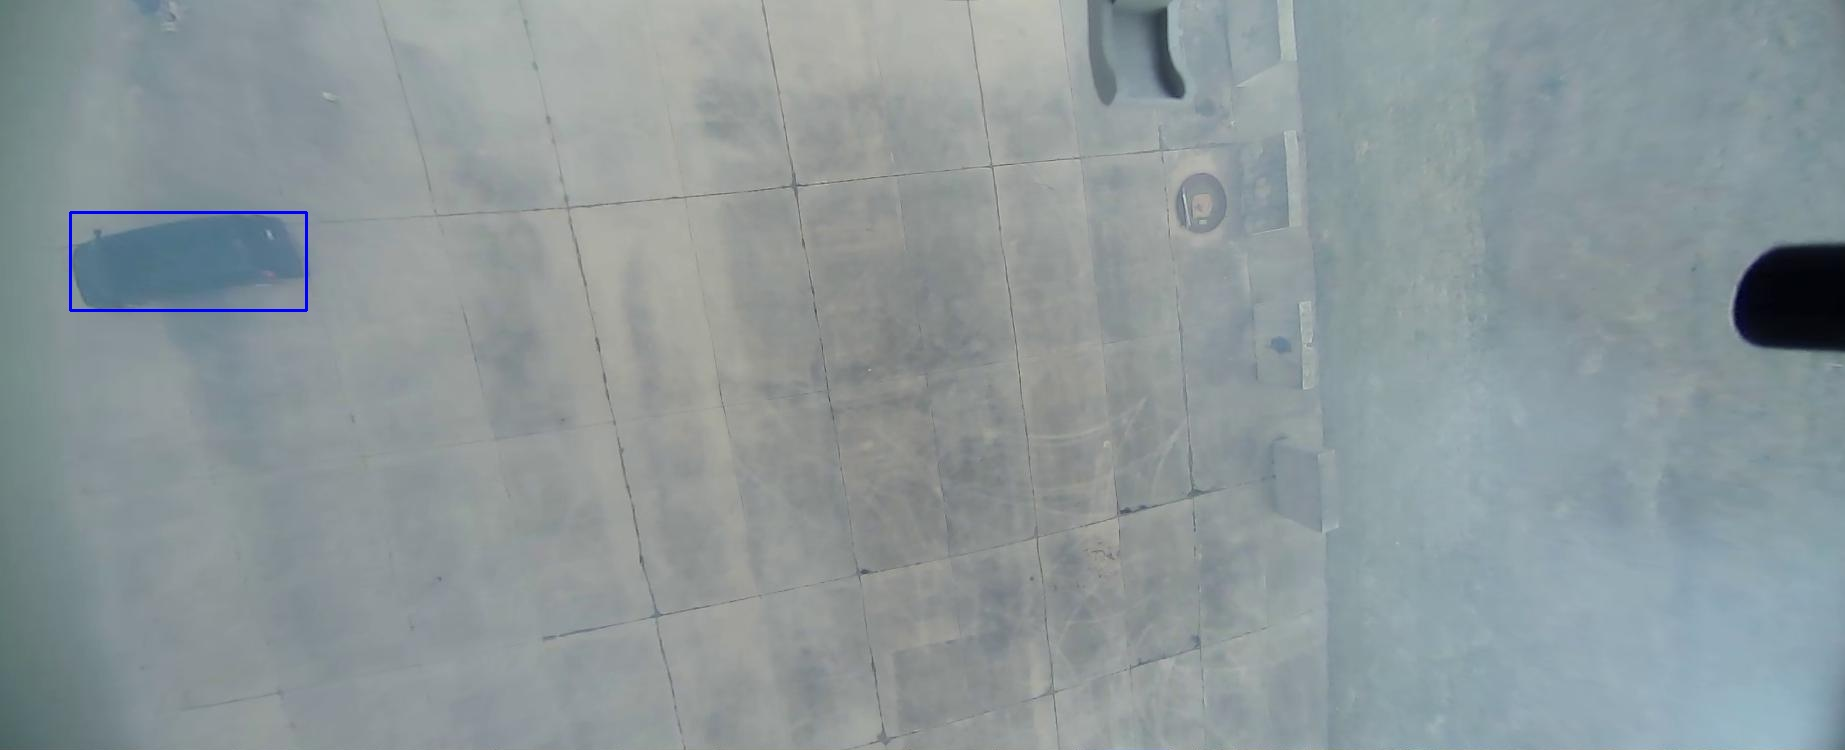vehicle: (212, 69, 309, 306)
